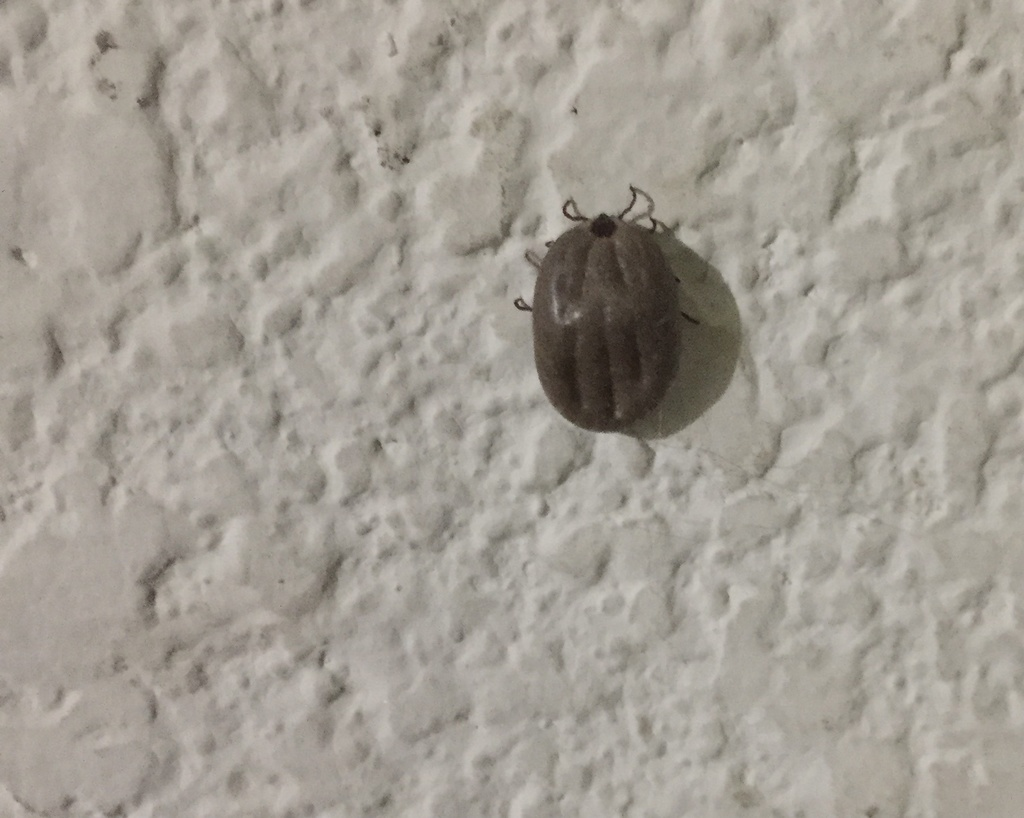garrapata: (486, 188, 734, 439)
